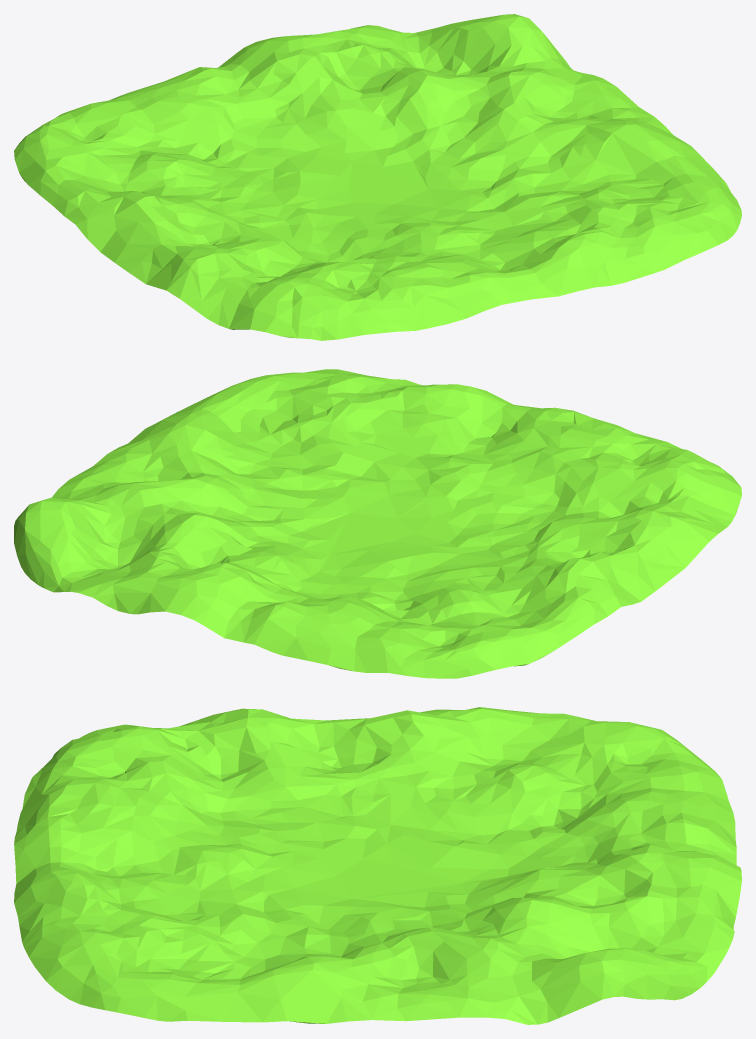
The model's file is terrain3.fbx.
The picture shows the model from 3 angles, top to bottom: view 1: azimuth 30°, elevation 25°; view 2: azimuth 150°, elevation 25°; view 3: azimuth 270°, elevation 25°; orthographic projection. The views are drawn at different scales.
Visible parts, largest first — view 1: terrain3; view 2: terrain3; view 3: terrain3.
Boxes of the visible parts, bbox=[...] form: terrain3: bbox=[14, 14, 741, 340]; terrain3: bbox=[14, 369, 741, 678]; terrain3: bbox=[14, 707, 741, 1024].
Bounding box in the file's own units: 71.98 × 5.72 × 72.55.
